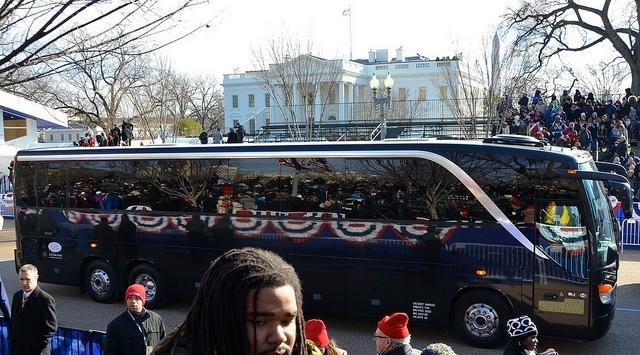bus: (8, 134, 632, 348)
